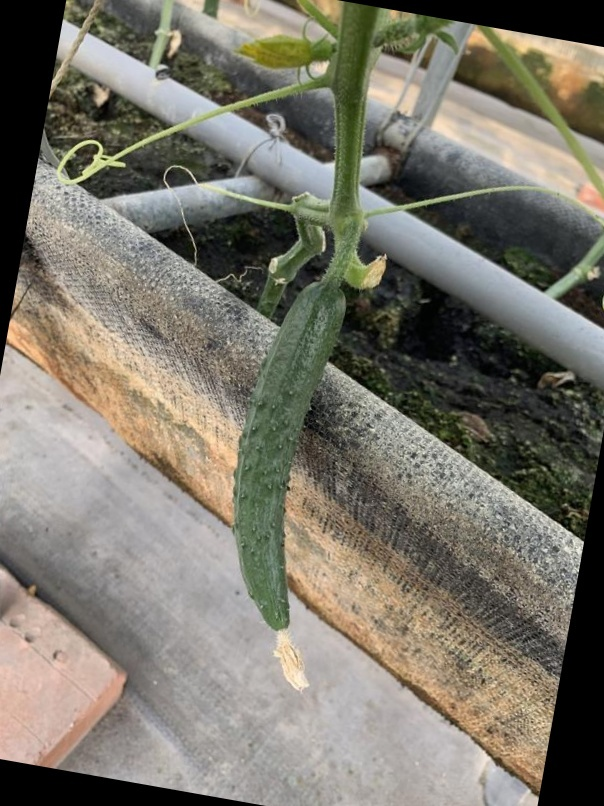growth: (214, 275, 354, 702)
